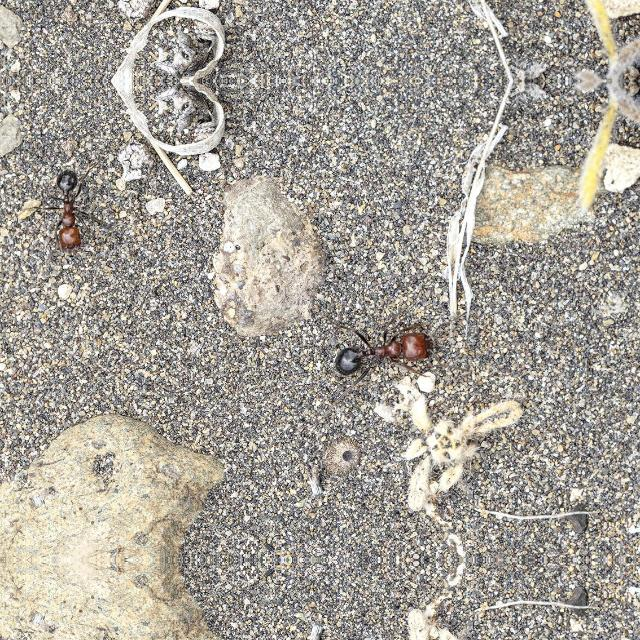Messor: (322, 307, 434, 377), (34, 162, 94, 254)
